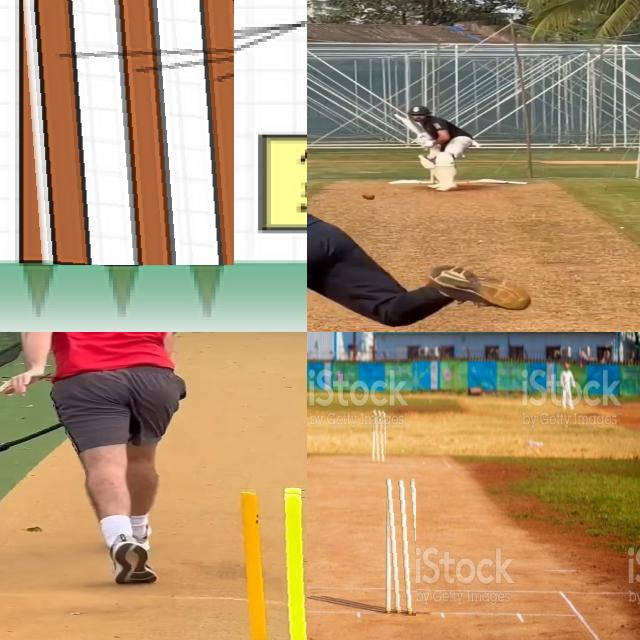Cricket ball: (363, 192, 375, 200)
Stumps: (7, 0, 234, 264), (219, 487, 307, 640), (384, 478, 416, 616), (372, 407, 386, 464)
